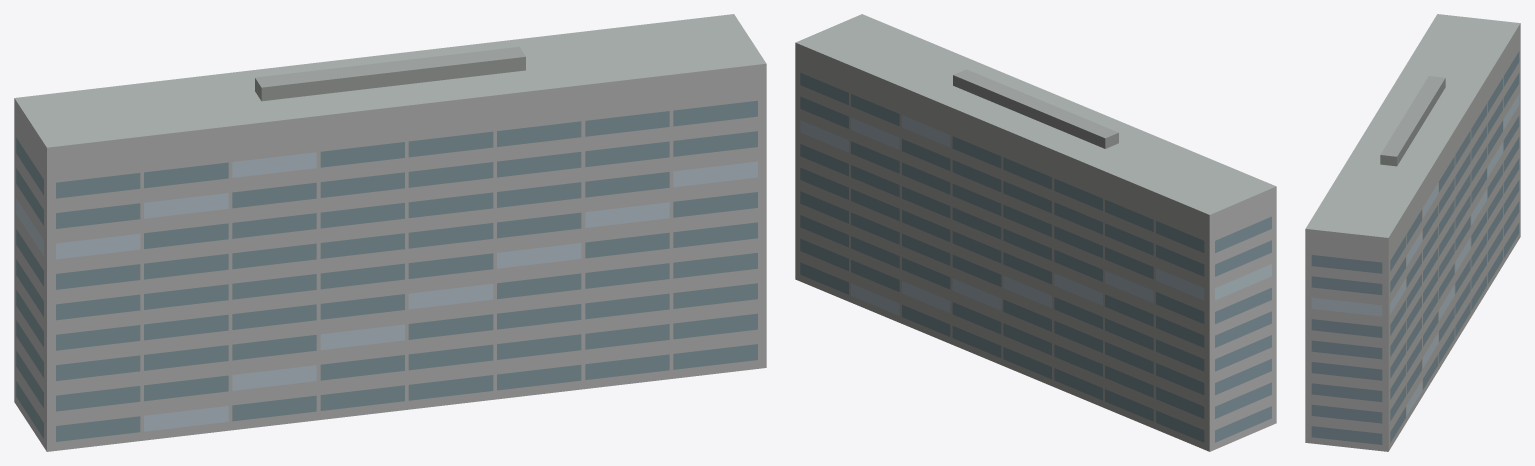
The model's file is fallback-olympic-athletes-village-257.glb.
The picture shows the model from 3 angles, left to right: view 1: azimuth 30°, elevation 25°; view 2: azimuth 150°, elevation 25°; view 3: azimuth 270°, elevation 25°; orthographic projection. The views are drawn at different scales.
Parts seen in each view (by area): view 1: fallback-olympic-athletes-village-257; view 2: fallback-olympic-athletes-village-257; view 3: fallback-olympic-athletes-village-257.
Boxes of the visible parts, box(x1,y1,x2,y2) form: fallback-olympic-athletes-village-257: box(14, 14, 766, 451); fallback-olympic-athletes-village-257: box(795, 14, 1276, 451); fallback-olympic-athletes-village-257: box(1305, 14, 1520, 451).
Size of the model in its own units: 68.45 by 31.87 by 27.78.
